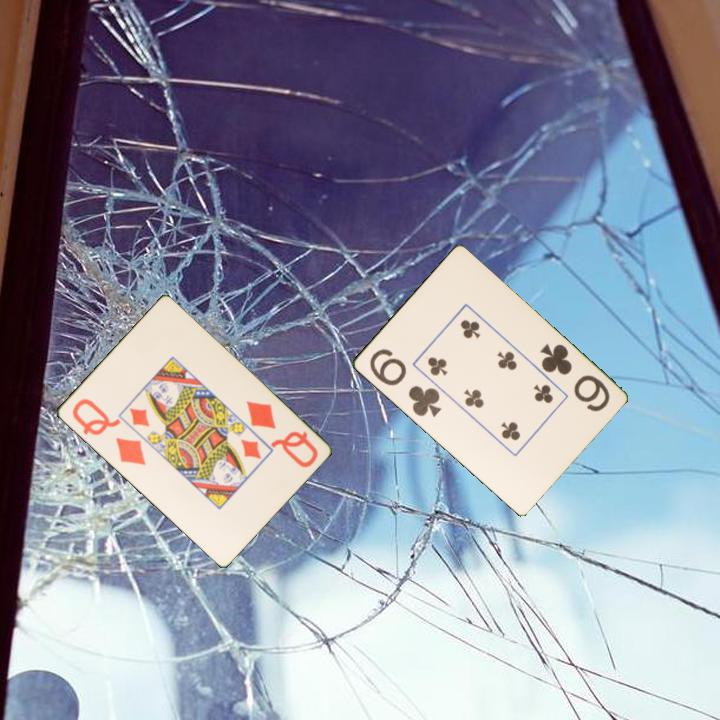6c: (365, 345, 444, 420), (536, 340, 613, 415)
Qd: (68, 395, 149, 468), (242, 397, 321, 471)
